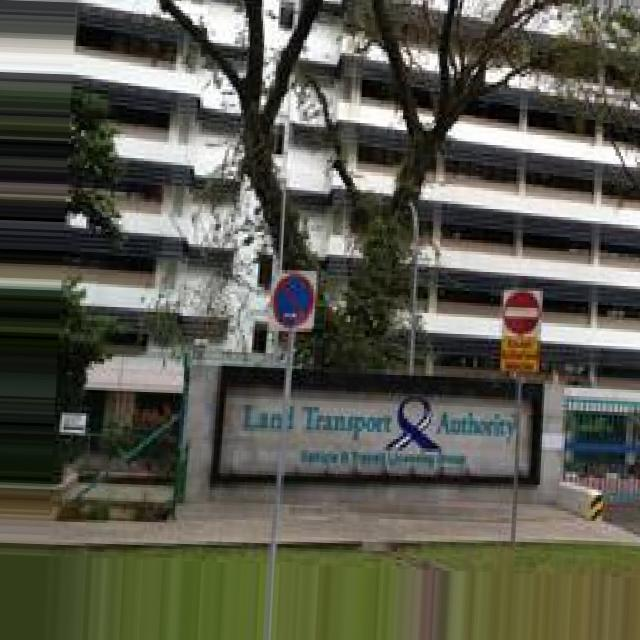forb_stopping: (273, 275, 315, 326)
